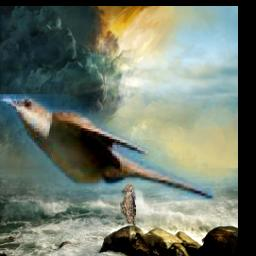Cuckoo: (0, 95, 214, 201)
Woodpecker: (121, 185, 137, 226)
